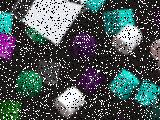Right: (11, 0, 88, 46)
